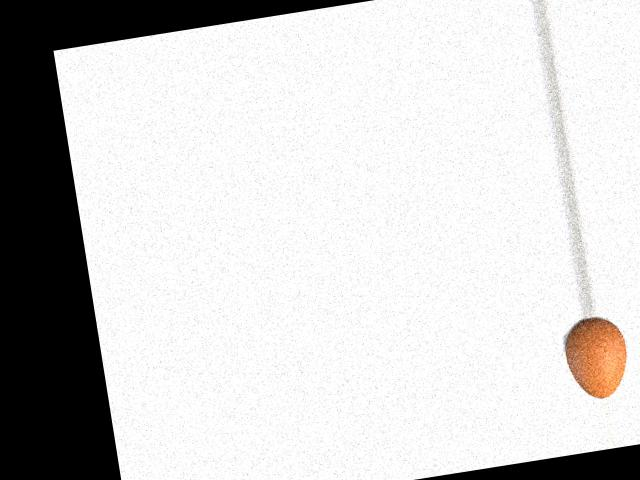egg: (560, 313, 632, 401)
